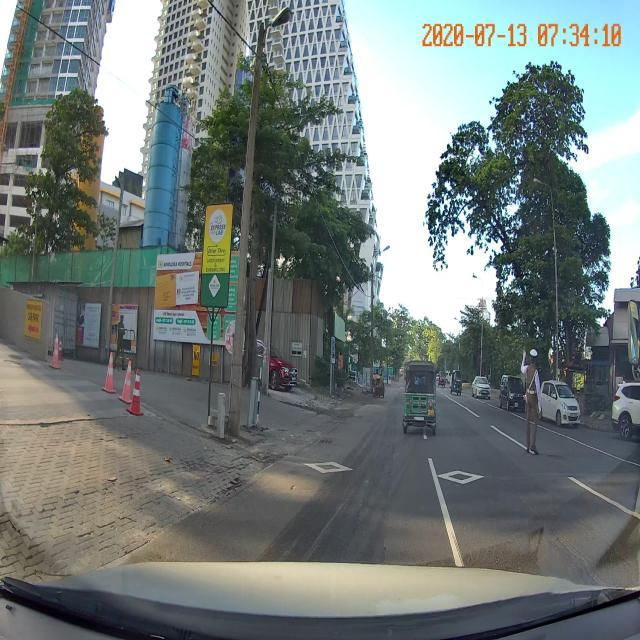diamond: (211, 447, 460, 522)
